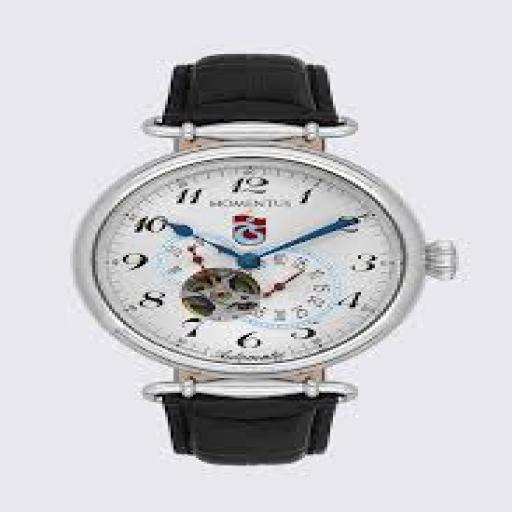KolSaati: (68, 34, 456, 478)
